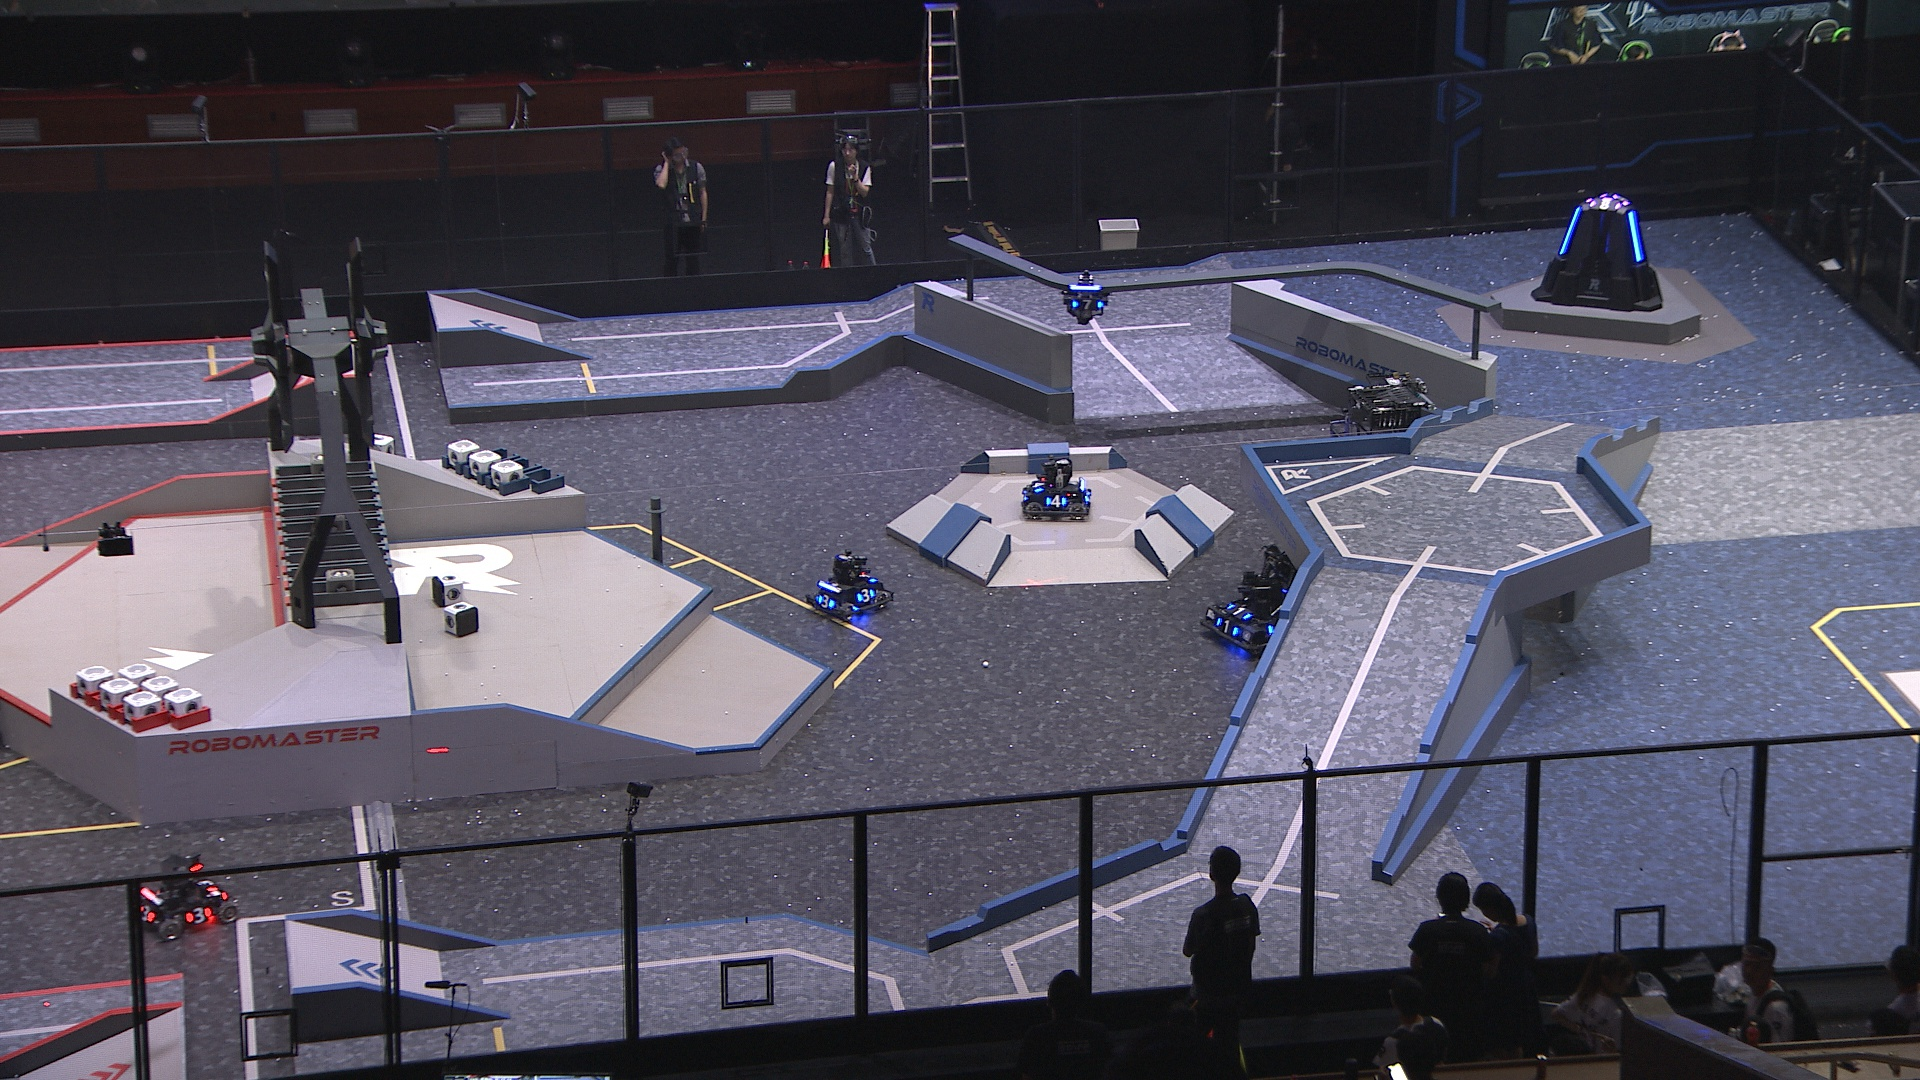armor: (1555, 204, 1582, 256), (1626, 208, 1647, 266), (182, 905, 214, 924), (1225, 603, 1255, 621), (1216, 617, 1242, 638), (1069, 297, 1106, 311), (136, 905, 160, 926), (852, 585, 878, 604), (196, 876, 222, 894), (855, 568, 884, 584), (814, 593, 839, 609), (1031, 476, 1048, 495), (1079, 485, 1093, 506), (1044, 495, 1065, 509)
base: (1528, 190, 1664, 314)
car: (1200, 537, 1324, 655), (1329, 372, 1443, 495), (131, 851, 245, 945), (803, 549, 898, 622), (1021, 455, 1093, 527)
ignore: (1585, 196, 1625, 214)
watcher: (1059, 266, 1116, 327)
